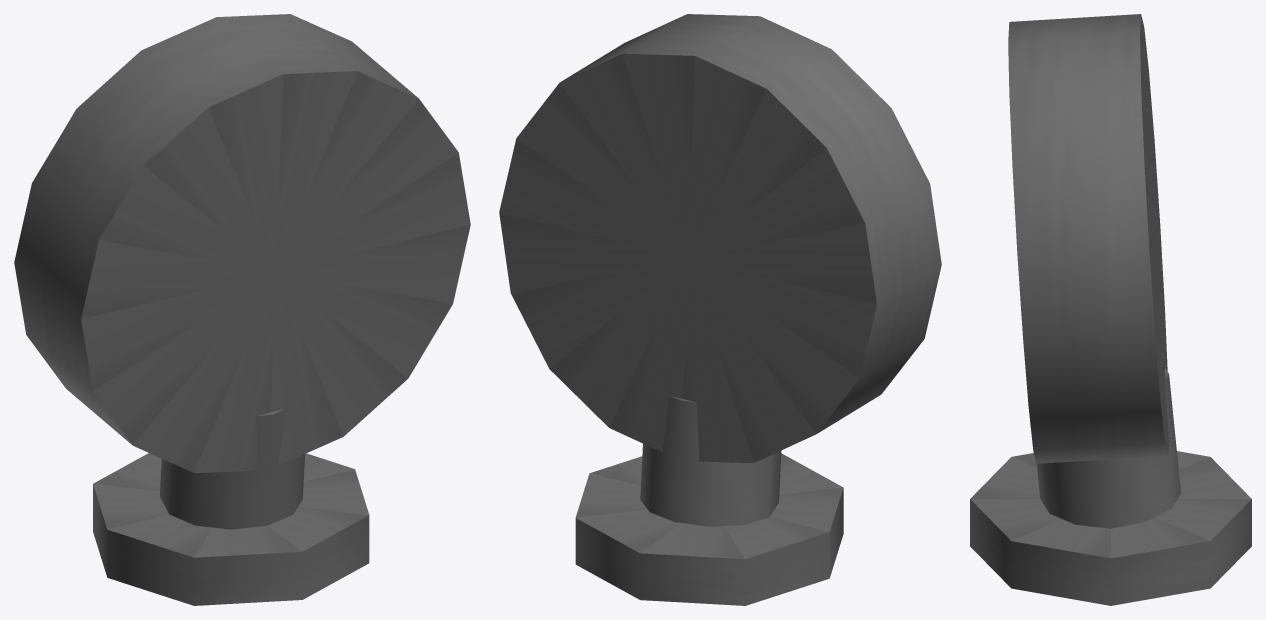
File: mastarmcurve_4x1_c4_down.obj
The picture shows the model from 3 angles, left to right: view 1: azimuth 30°, elevation 25°; view 2: azimuth 150°, elevation 25°; view 3: azimuth 270°, elevation 25°; orthographic projection. The views are drawn at different scales.
Parts seen in each view (by area): view 1: mastarm_4x1_c4_down; view 2: mastarm_4x1_c4_down; view 3: mastarm_4x1_c4_down.
Part boxes in pixels (left/top/right/bottom): mastarm_4x1_c4_down: left=14, top=14, right=470, bottom=605; mastarm_4x1_c4_down: left=499, top=14, right=941, bottom=605; mastarm_4x1_c4_down: left=970, top=14, right=1251, bottom=605.
Bounding box in the file's own units: 0.6291 × 0.8018 × 0.4.
